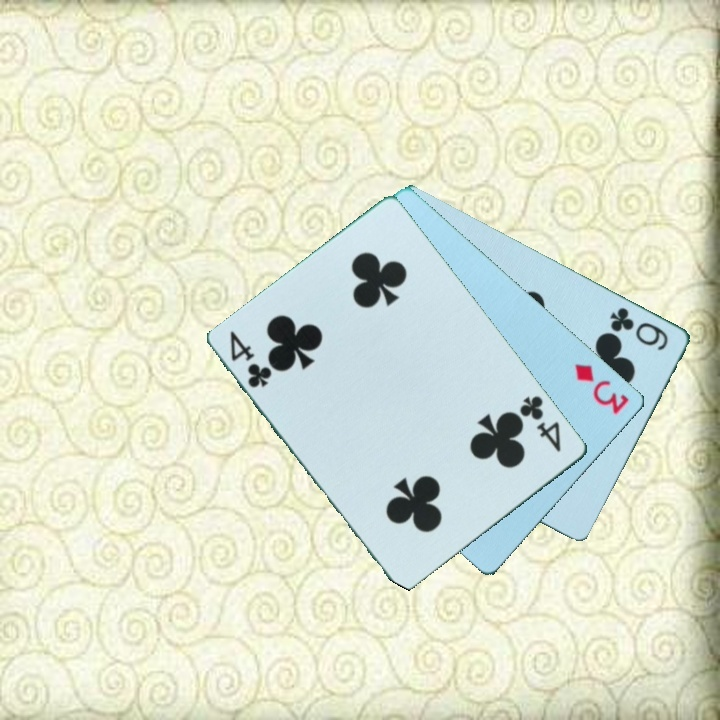3d: (571, 357, 633, 418)
4c: (226, 327, 276, 392), (516, 391, 565, 455)
6c: (606, 303, 672, 354)
